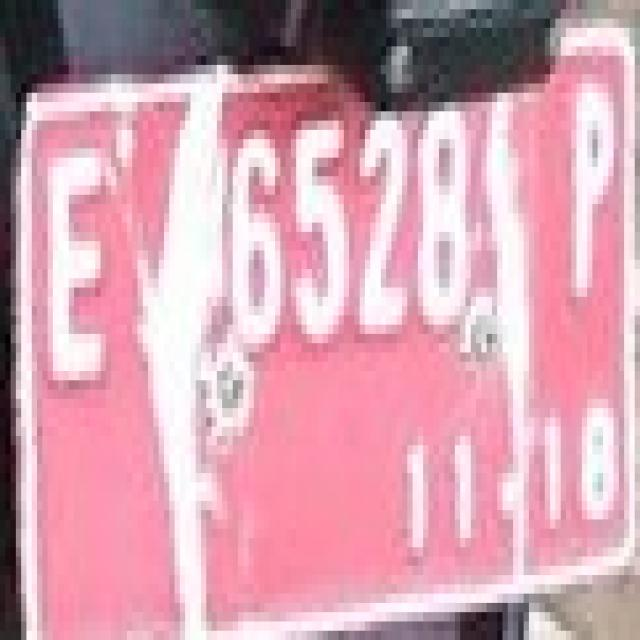plate: (11, 9, 634, 622)
